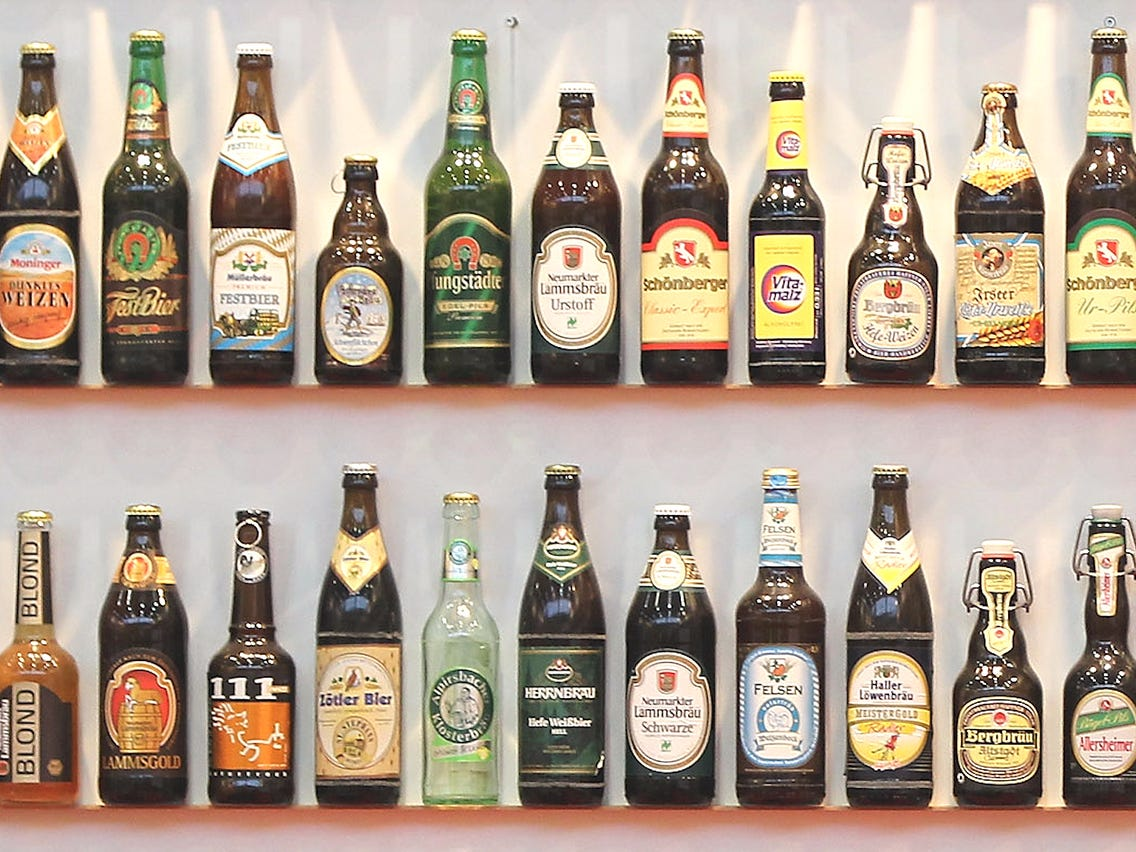glass_bottle: (633, 12, 737, 402), (725, 464, 838, 814), (417, 20, 519, 395), (509, 460, 616, 816), (92, 25, 196, 391), (837, 459, 941, 814), (308, 458, 411, 809), (615, 501, 727, 818), (947, 80, 1055, 404), (204, 37, 302, 394), (523, 74, 630, 395), (93, 498, 197, 814), (740, 66, 837, 403), (201, 494, 303, 812), (836, 108, 947, 398), (413, 476, 504, 816), (947, 532, 1053, 819), (1, 38, 85, 393), (1058, 21, 1136, 395), (1055, 501, 1136, 814), (1, 507, 84, 811), (308, 152, 409, 396)
